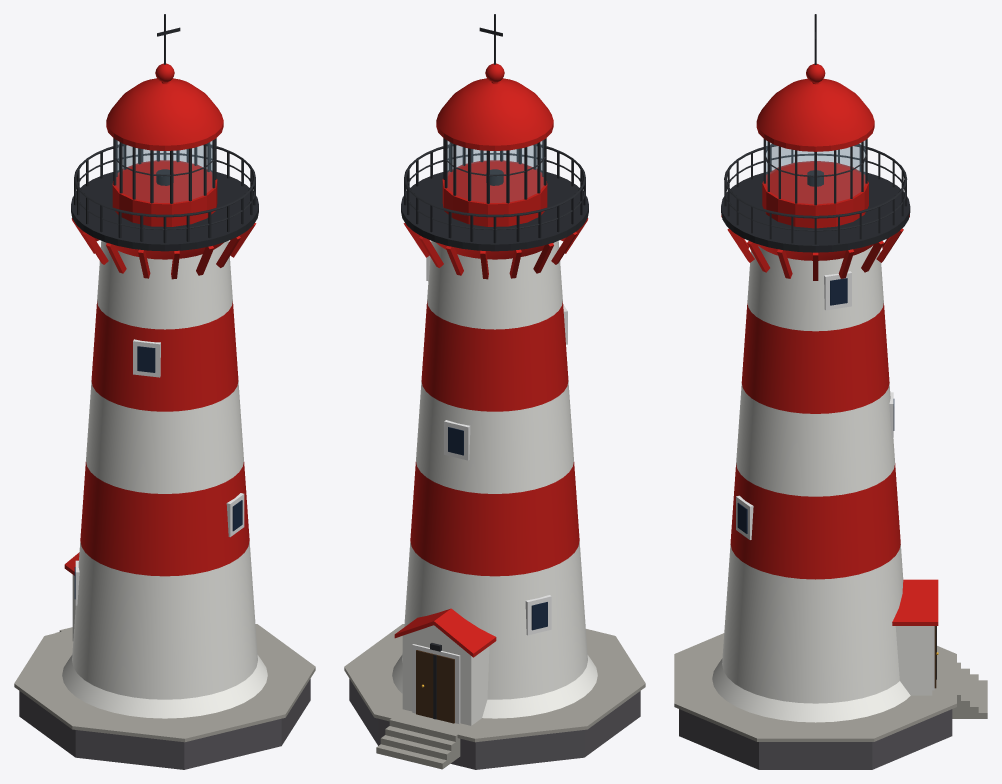
File: SM_Lighthouse_Tower.fbx
3 views of the same model, side by side, from view 1: azimuth 30°, elevation 25°; view 2: azimuth 150°, elevation 25°; view 3: azimuth 270°, elevation 25° (orthographic).
Visible parts, largest first — view 1: SM_Lighthouse_Tower; view 2: SM_Lighthouse_Tower; view 3: SM_Lighthouse_Tower.
Part boxes in pixels (left/top/right/bottom): SM_Lighthouse_Tower: left=14, top=14, right=315, bottom=769; SM_Lighthouse_Tower: left=344, top=14, right=645, bottom=769; SM_Lighthouse_Tower: left=674, top=14, right=987, bottom=769.
Bounding box in the file's own units: 9.56 × 26.05 × 10.6.
